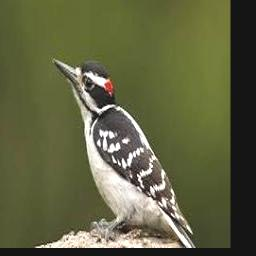Woodpecker: (53, 57, 196, 248)
